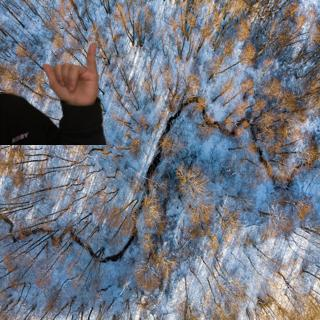HAVE: (39, 40, 110, 111)
